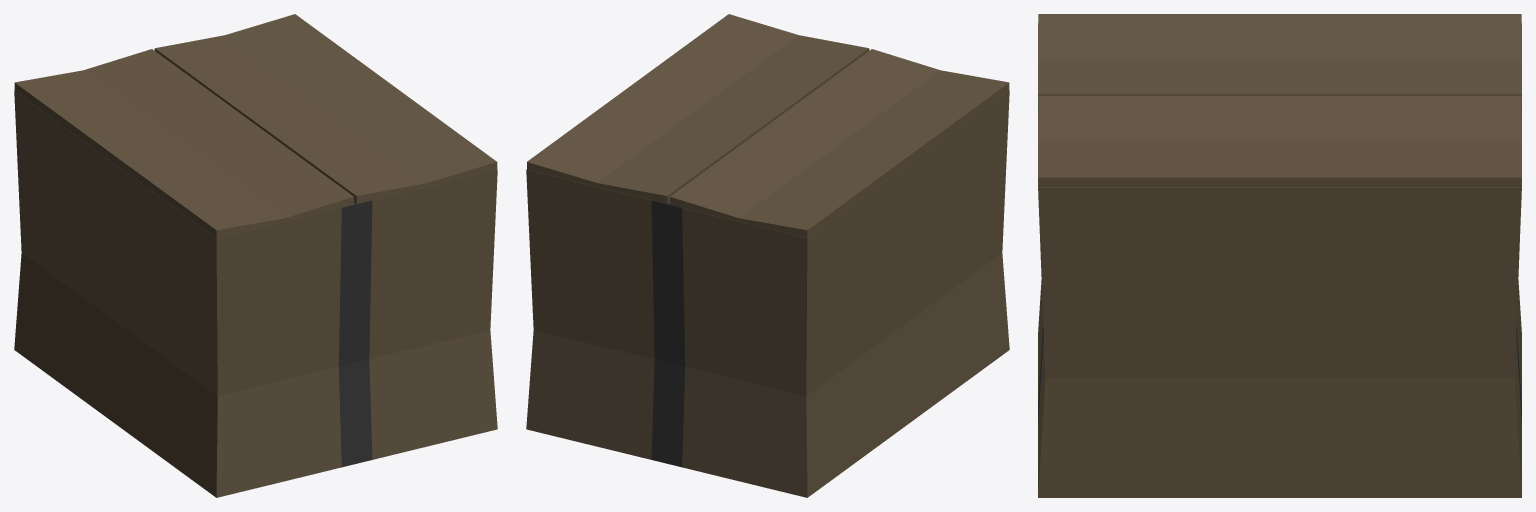
3 views of the same model, side by side, from view 1: azimuth 30°, elevation 25°; view 2: azimuth 150°, elevation 25°; view 3: azimuth 270°, elevation 25° (orthographic). The views are drawn at different scales.
Visible parts, largest first — view 1: box, Cube.002, Cube.003; view 2: box, Cube.002, Cube.003; view 3: box, Cube.003, Cube.002.
Boxes of the visible parts, bbox=[...] form: box: bbox=[14, 90, 497, 497]; Cube.002: bbox=[14, 49, 353, 238]; Cube.003: bbox=[154, 14, 497, 203]; box: bbox=[526, 90, 1009, 497]; Cube.002: bbox=[670, 49, 1009, 238]; Cube.003: bbox=[527, 14, 869, 203]; box: bbox=[1038, 23, 1521, 497]; Cube.003: bbox=[1038, 95, 1521, 187]; Cube.002: bbox=[1038, 14, 1521, 95].
Size of the model in its own units: 161 by 146 by 200.
